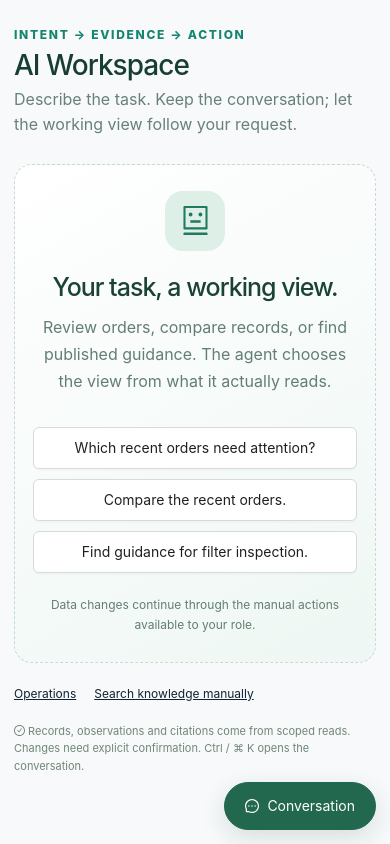
Test: native floating conversation actual component › shows failed tool and unconfirmed outcomes from a real error stream without converting them to success
Click the button with aria-label "Open conversation" at (300, 806), box [224,782,376,830]
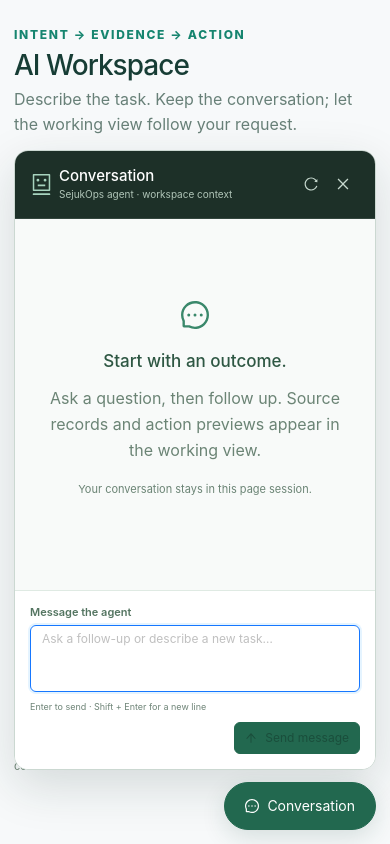
Type "A failing run" into the text box labelled "Message the agent" at (195, 658), box [30,625,360,692]
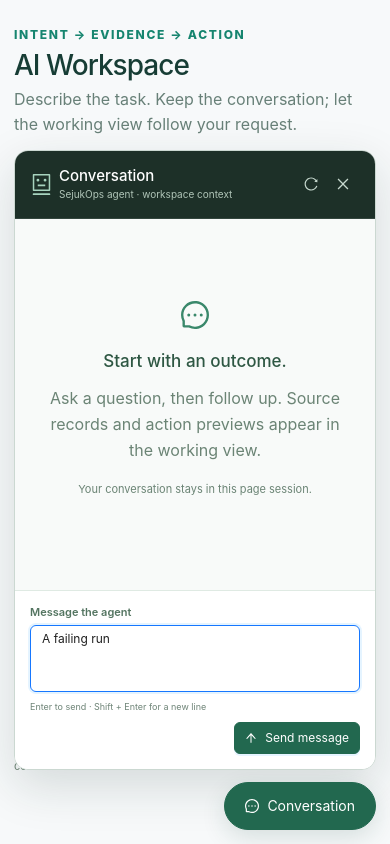
Click the button "Send message" at (297, 738), box [234,722,360,754]
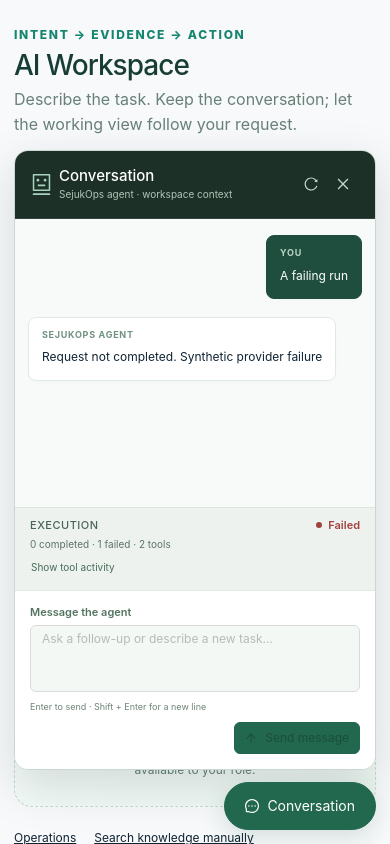
expect the message reads "Failed": met, box [328,518,360,532]
expect the text "0 completed · 1 failed · 2 tools" is shown: met, box [30,538,171,550]
Click the button "Show tool activity" at (73, 568), box [30,556,116,580]
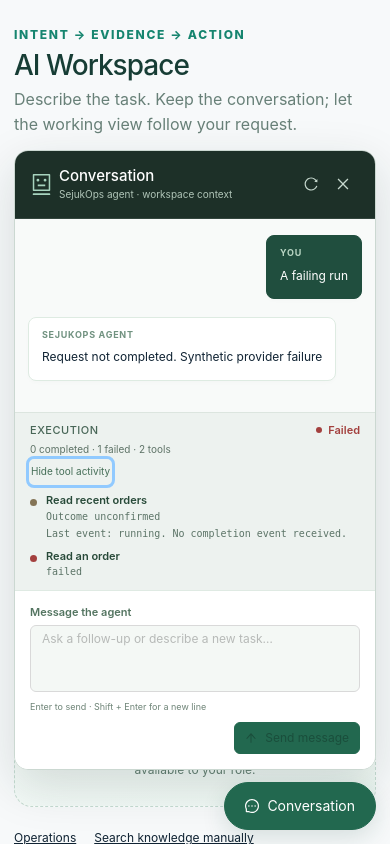
expect the text "Outcome unconfirmed" is shown: met, box [46,511,160,522]
